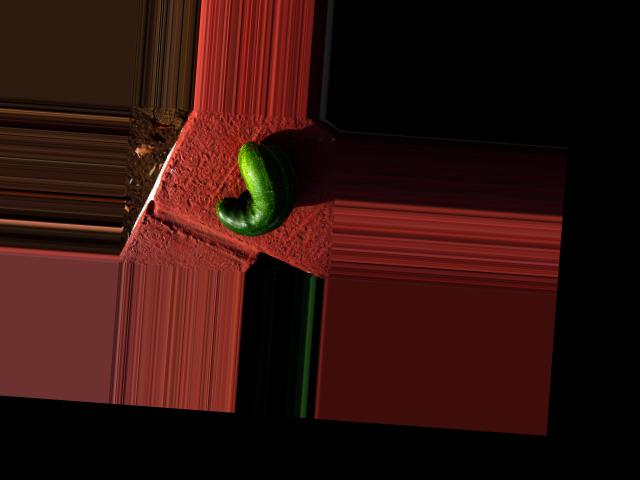cucumber: (212, 139, 300, 239)
